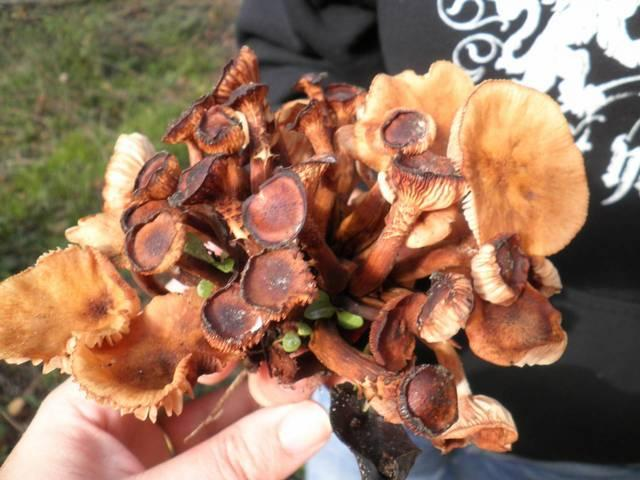edible_mushroom: (0, 44, 590, 479)
